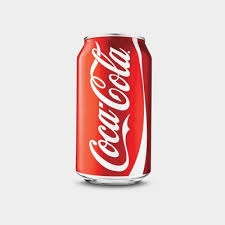metal: (70, 27, 162, 194)
